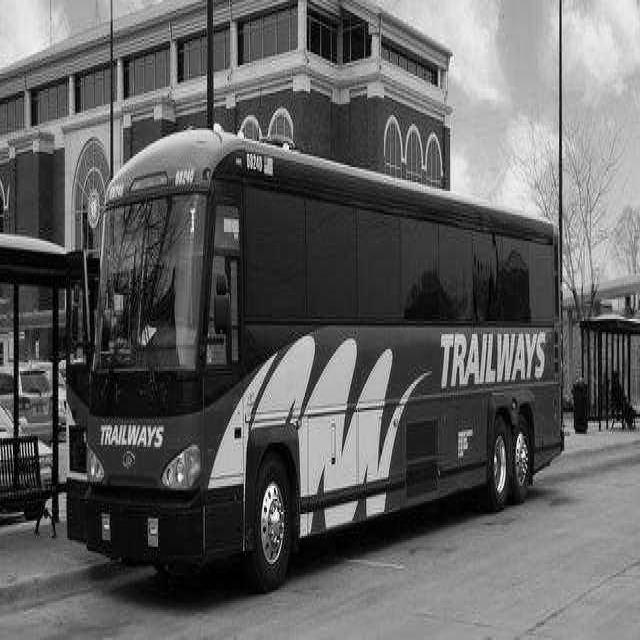Bus: (78, 125, 562, 590)
